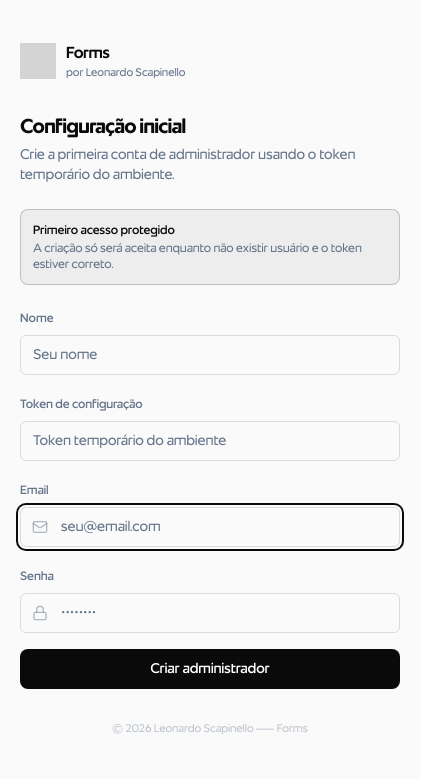
Login account access › does not sign in when setup returns without an explicit success acknowledgement
This screenshot has width=421, height=779.
Expected: the heading "Configuração inicial" is shown, [20,117,186,137]
Step 1. Type "temporary-token" into the password field labelled "Token de configuração" → [210, 441], box [20,421,400,461]
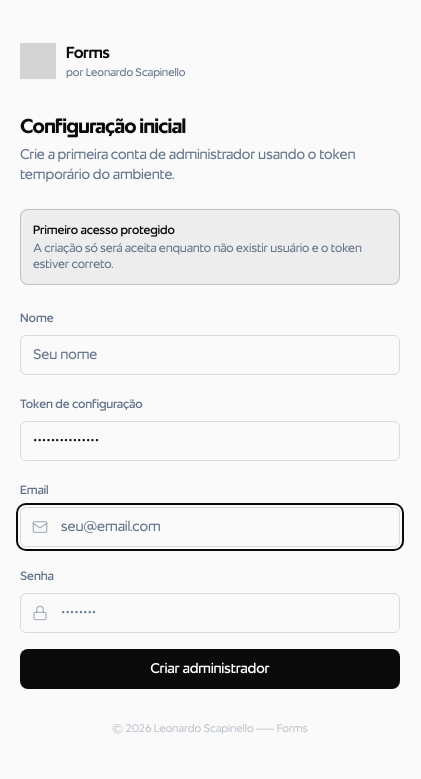
Step 2. Type "leonardo@example.com" into the field labelled "Email" → [210, 527], box [20,507,400,547]
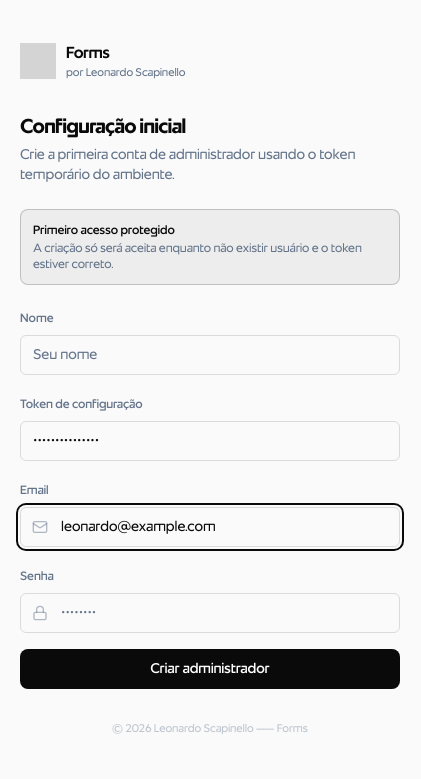
Step 3. Type "senha-com-12" into the password field labelled "Senha" → [210, 613], box [20,593,400,633]
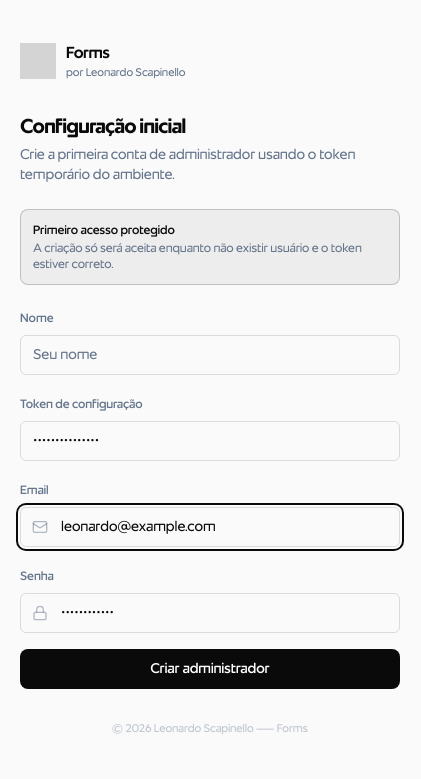
Step 4. Click the button "Criar administrador" → [210, 669], box [20,649,400,689]
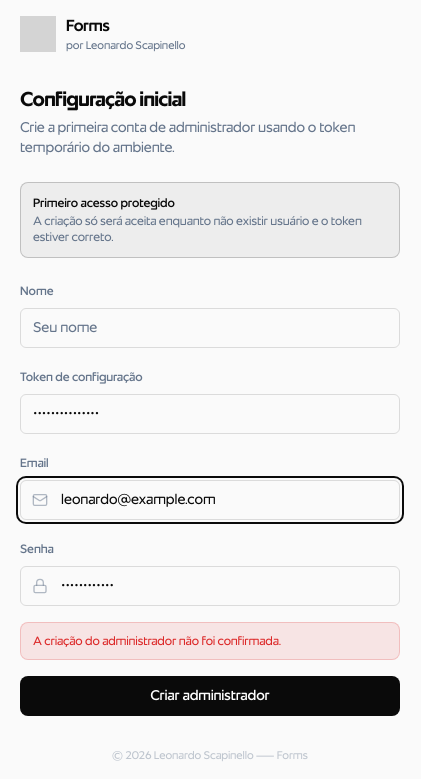
Expected: the message reads "A criação do administrador não foi confirmada.", [33,635,281,647]
